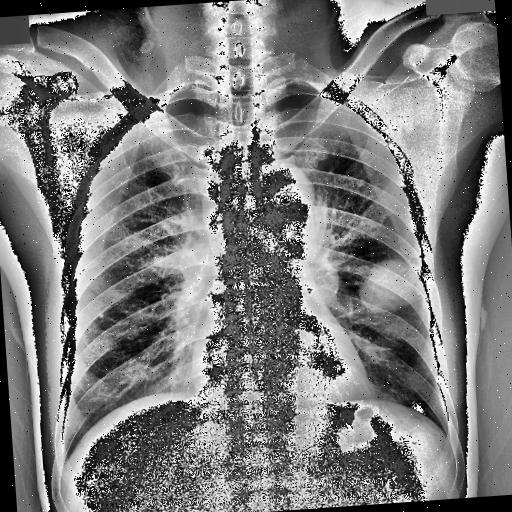0- Aortic enlargement: (246, 158, 318, 237), (246, 156, 318, 232), (258, 157, 316, 237)
7- Lung Opacity: (357, 260, 426, 312)
8- Nodule-Mass: (357, 254, 428, 312), (352, 258, 428, 312), (357, 260, 426, 312)
